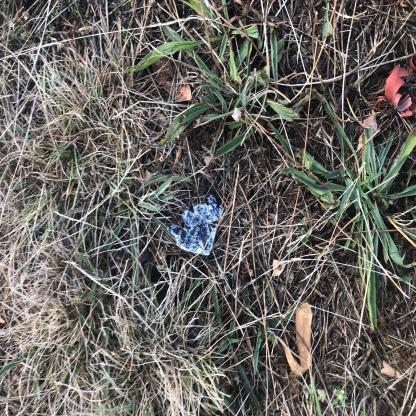trash: (117, 220, 167, 301)
